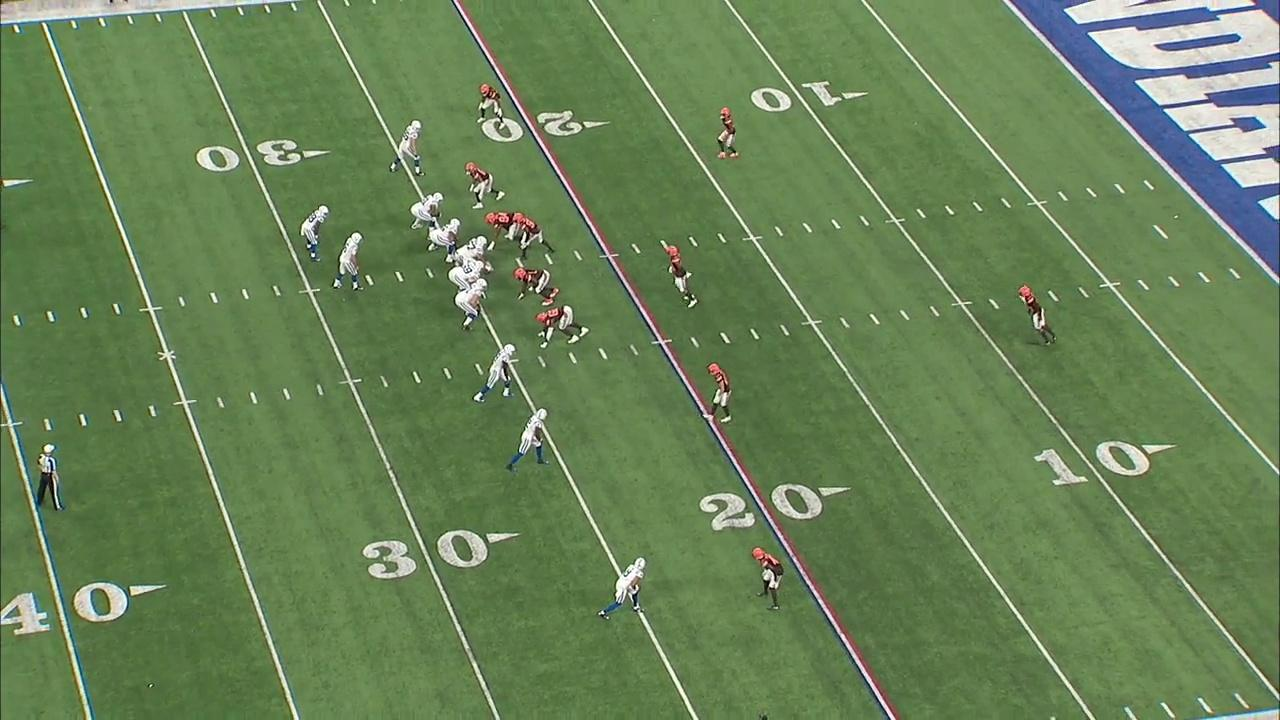player: (596, 554, 649, 623), (504, 406, 552, 475), (471, 342, 519, 406), (1017, 283, 1059, 348), (535, 304, 590, 349), (388, 118, 428, 179), (749, 546, 785, 613), (664, 244, 700, 311), (512, 211, 557, 262), (331, 229, 366, 293), (701, 361, 735, 425), (463, 161, 506, 211), (299, 203, 332, 264), (453, 277, 489, 332), (512, 267, 561, 307), (408, 190, 445, 242), (453, 235, 495, 276), (426, 217, 462, 264), (483, 211, 524, 252), (714, 105, 742, 162), (475, 82, 505, 130), (447, 259, 485, 293)
ref: (32, 441, 65, 514)
